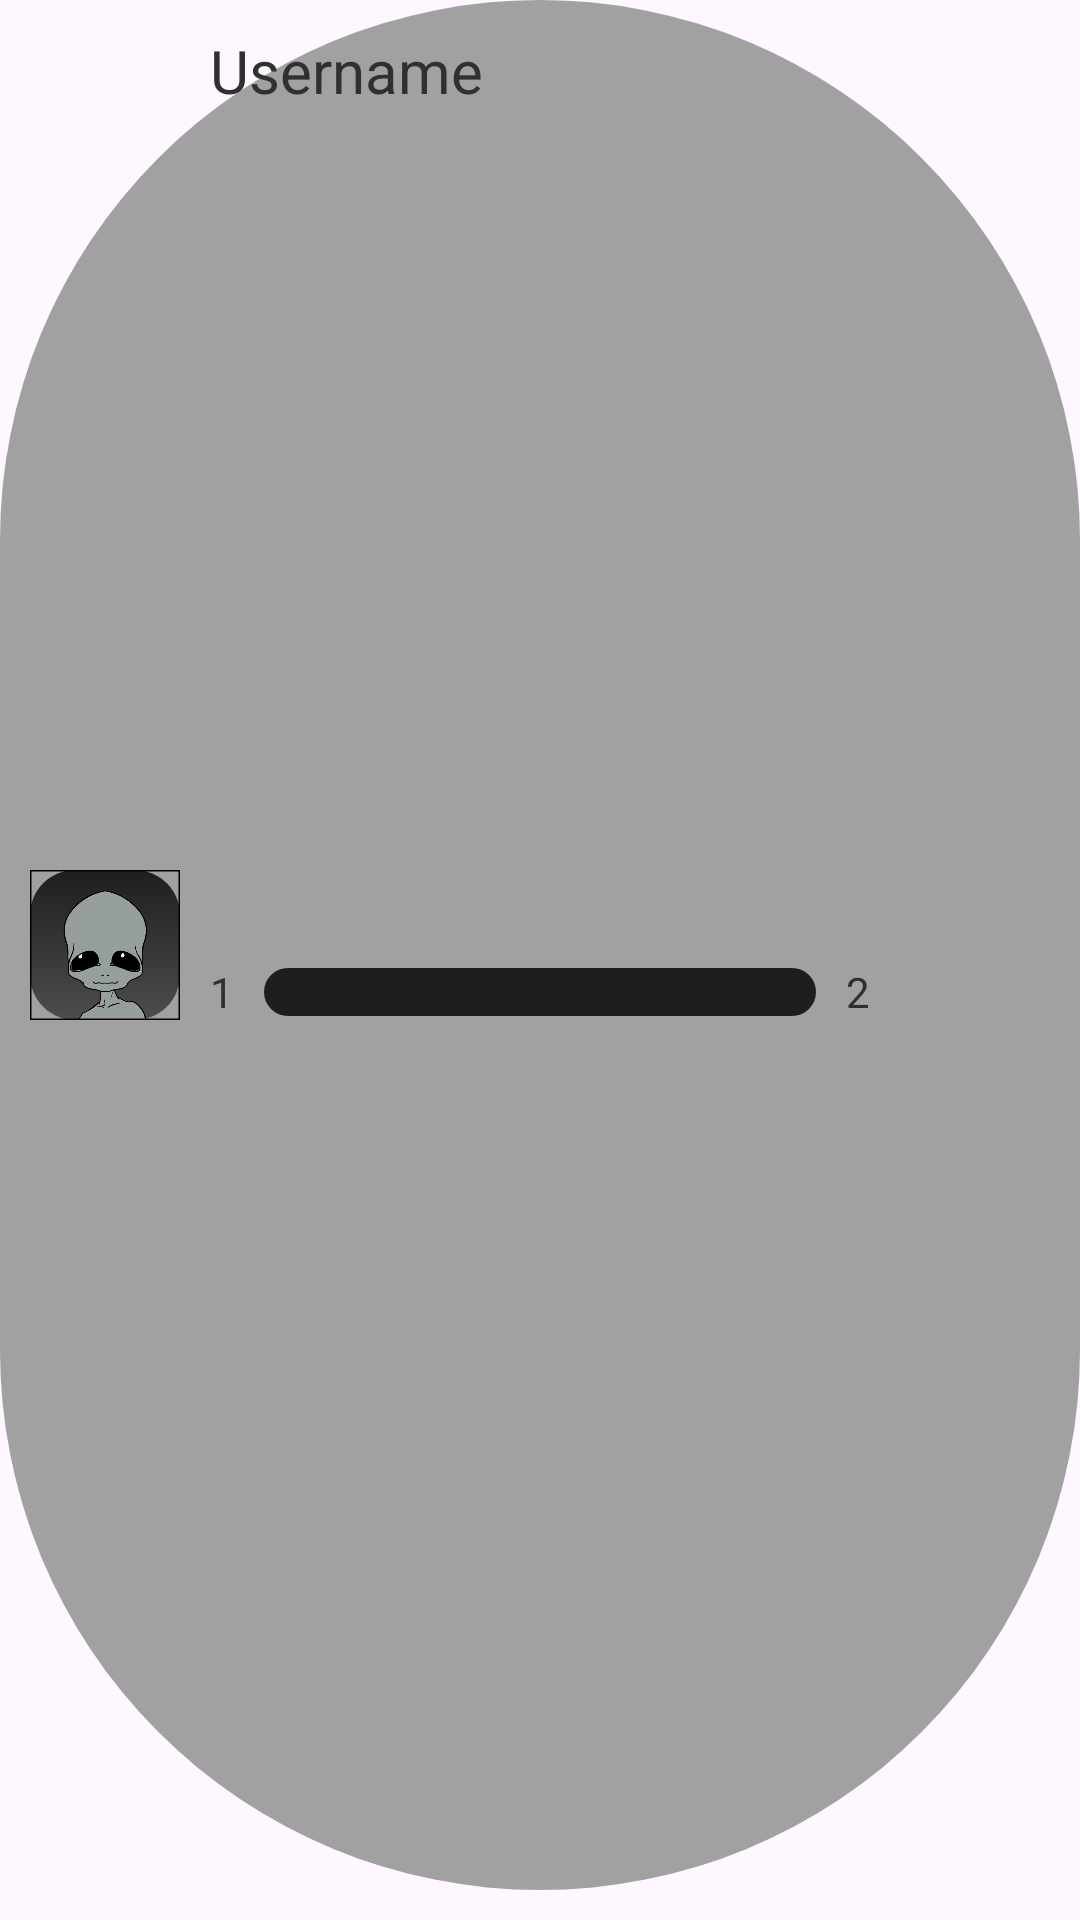

Point at icon controls on the screen. Image size 1080px x 1920px, points as (x,y).
alien: (105,945)
